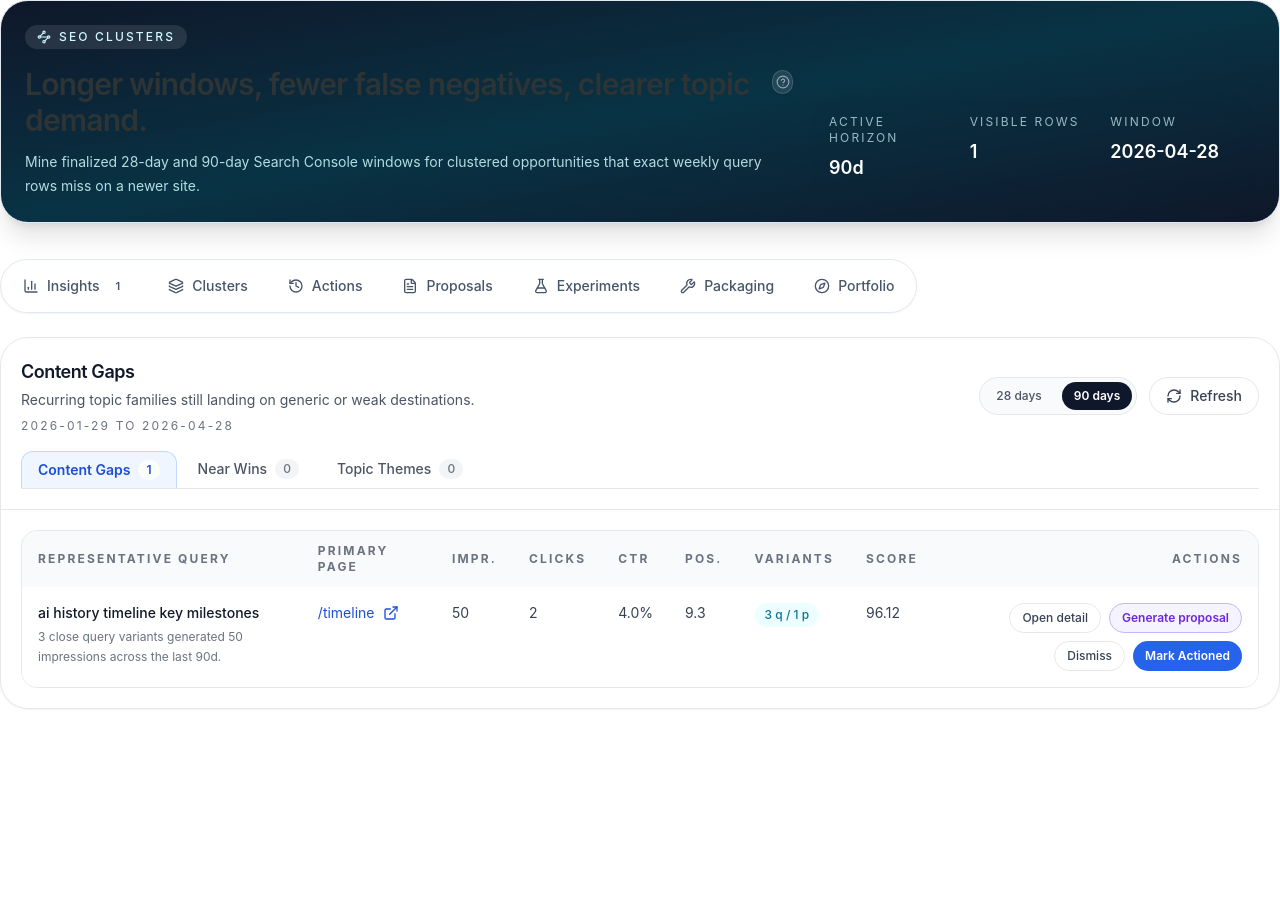
Test case: SeoClustersPage › opens the cluster drawer and renders member evidence
The image size is (1280, 900).
Expected: the text "ai history timeline key milestones" is shown, [38,603,286,623]
What coordinates should you click on to do the following:
click the button "Open detail"
I would click on:
 (1055, 618)
Its box is [1009,603,1101,633].
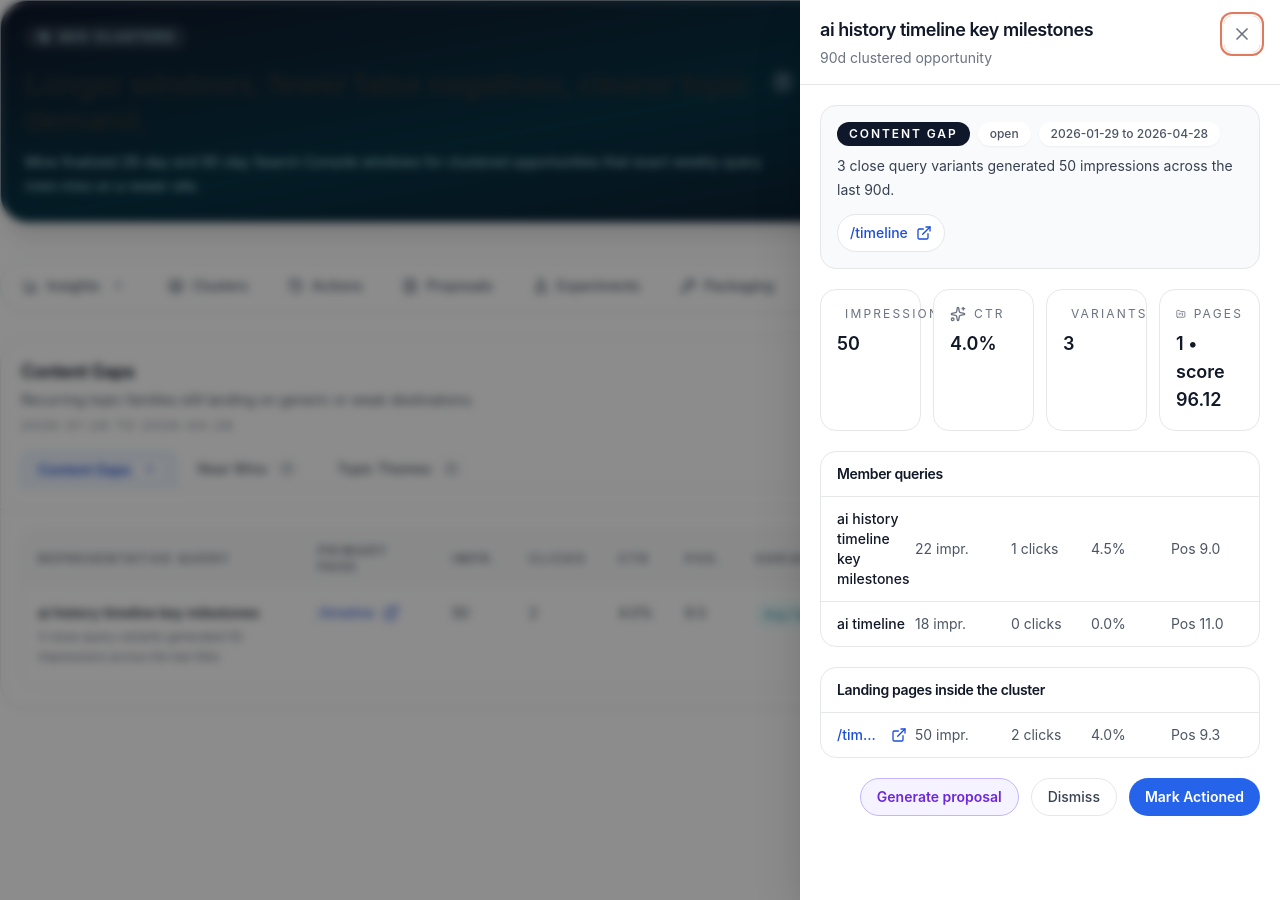
Expected: the text "/timeline" in the row of "q /" is shown, [318,604,374,621]
Expected: the heading "Member queries" is shown, [837,465,943,482]
Expected: the text "ai timeline" is shown, [837,614,907,634]
